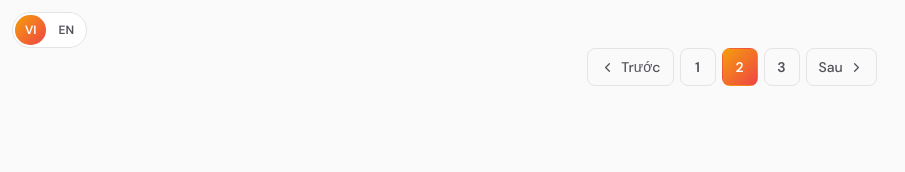
LanguageSwitch › re-renders translated copy across the tree when EN is picked
Expected: the button with aria-label "Trang trước" is shown, [587, 48, 674, 86]
Step 1. Click the radio button with aria-label "English" → (66, 30), box [48, 15, 84, 45]
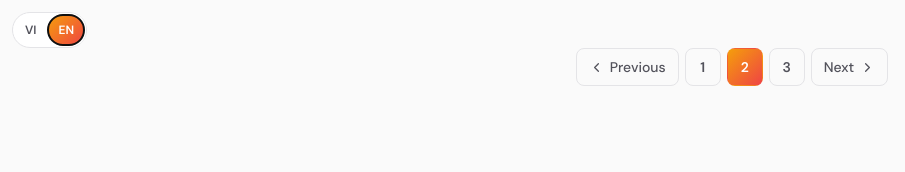
Now the button with aria-label "Previous page" is shown, box [576, 48, 679, 86]
Now the button with aria-label "Next page" is shown, box [811, 48, 888, 86]
